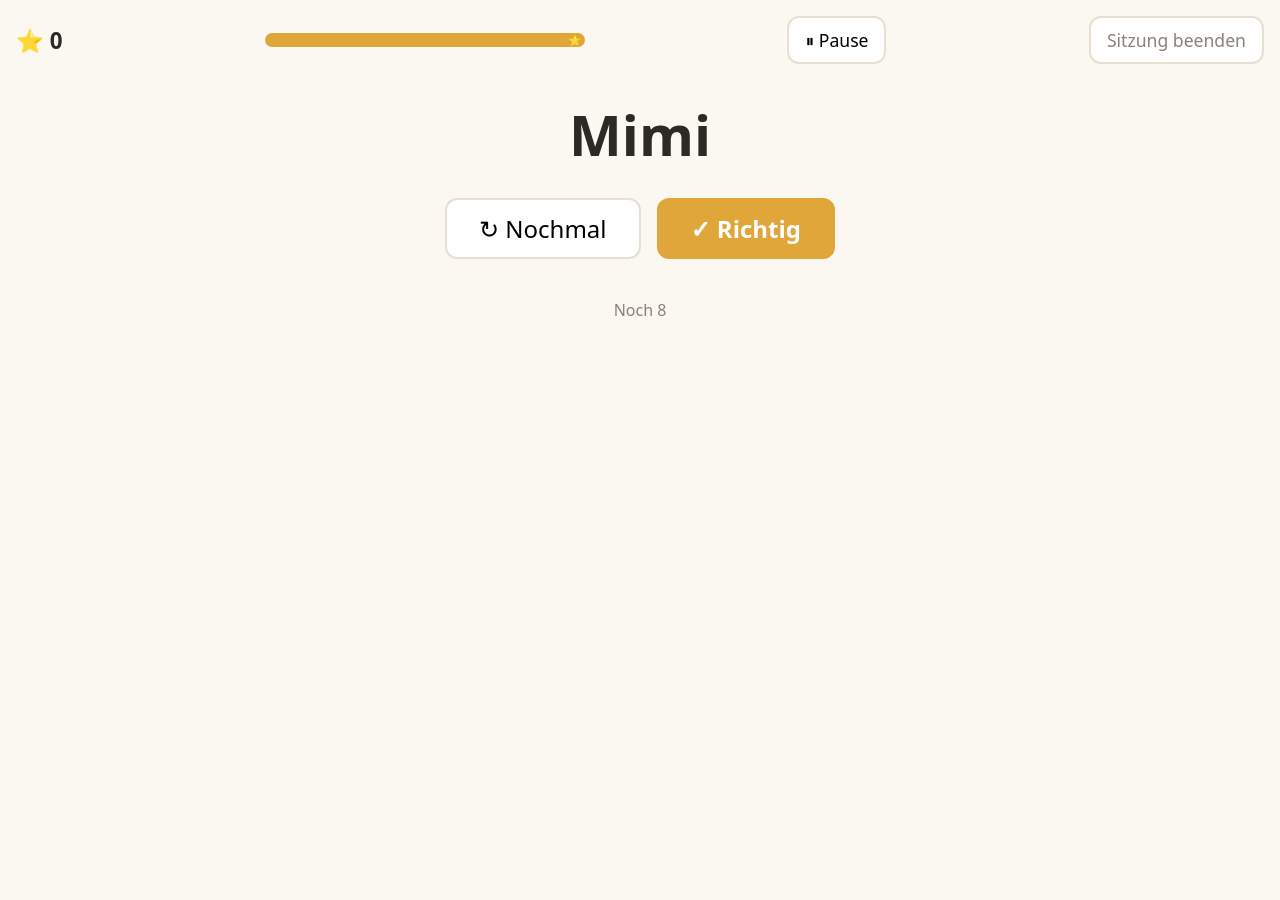
Tagesreise › Sitzung beenden fragt nach › Ziel erreicht: Aufhören führt zum Abschluss mit Sticker
The image size is (1280, 900).
Click the button "Sitzung beenden" at (1176, 40), box [1089,16,1264,64]
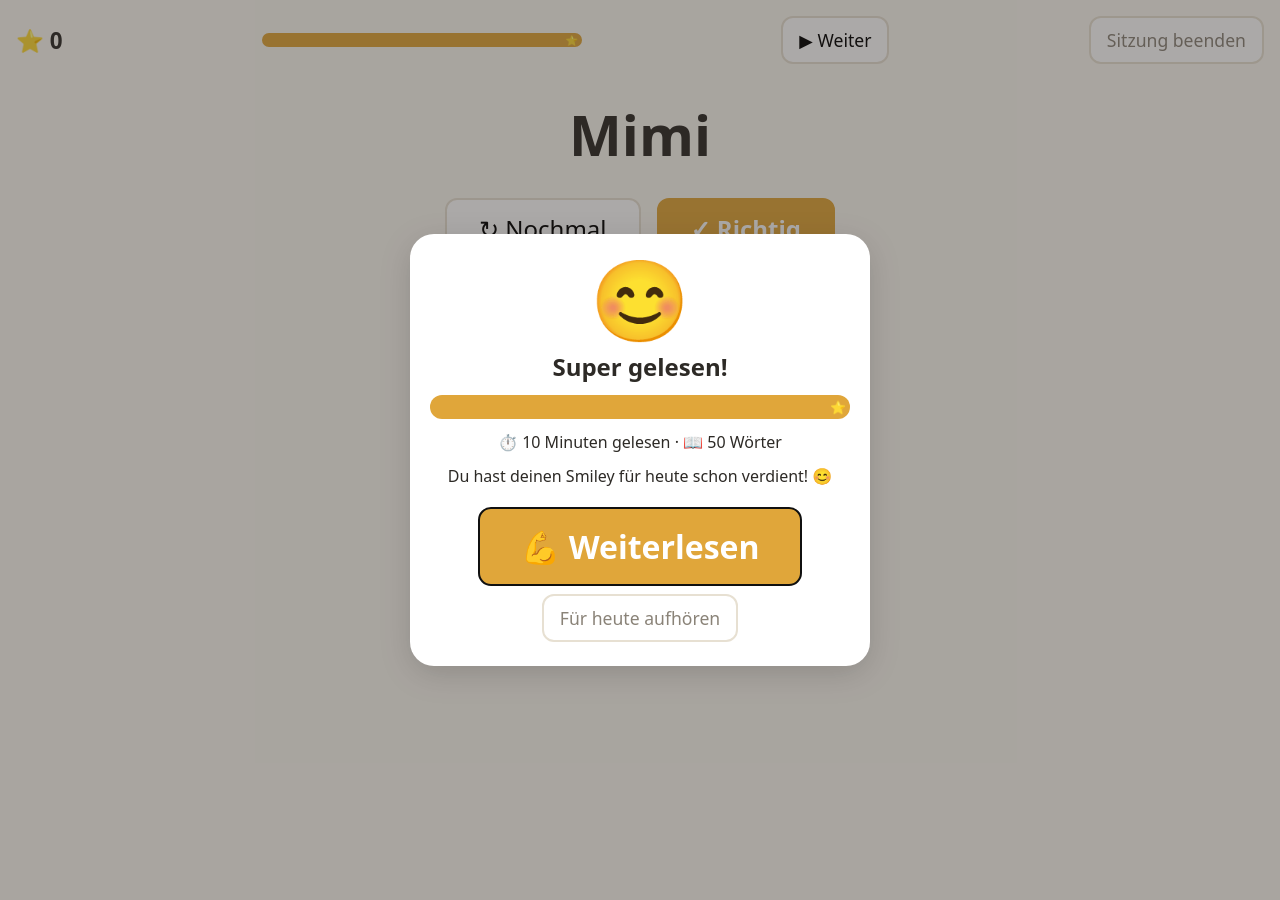
Check: the text "Du hast deinen Smiley für heute schon verdient! 😊" is shown, box [448,465,832,487]
Click the button "Für heute aufhören" at (640, 618), box [542,594,738,642]
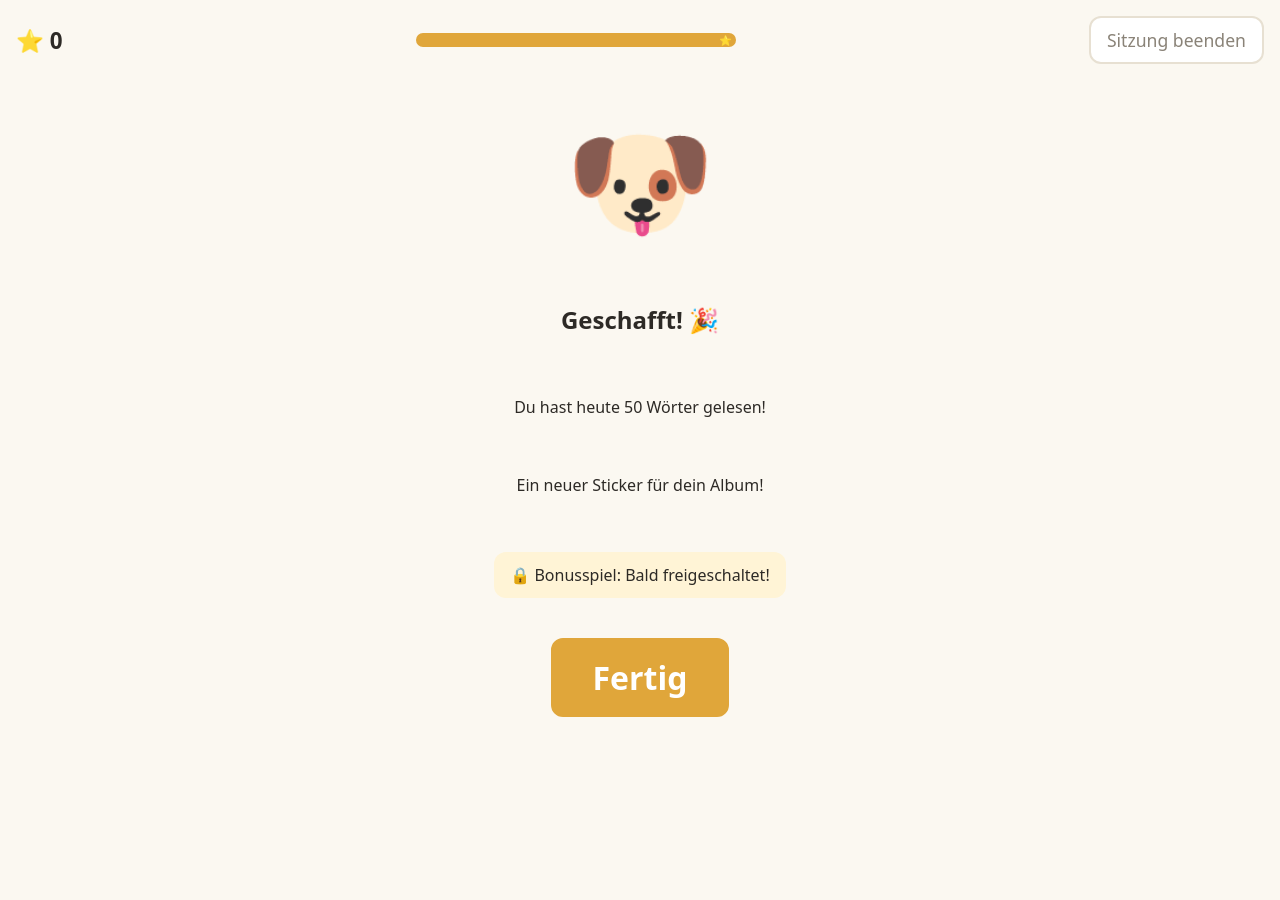
Check: the heading "Geschafft! 🎉" is shown, box [561,303,719,336]
